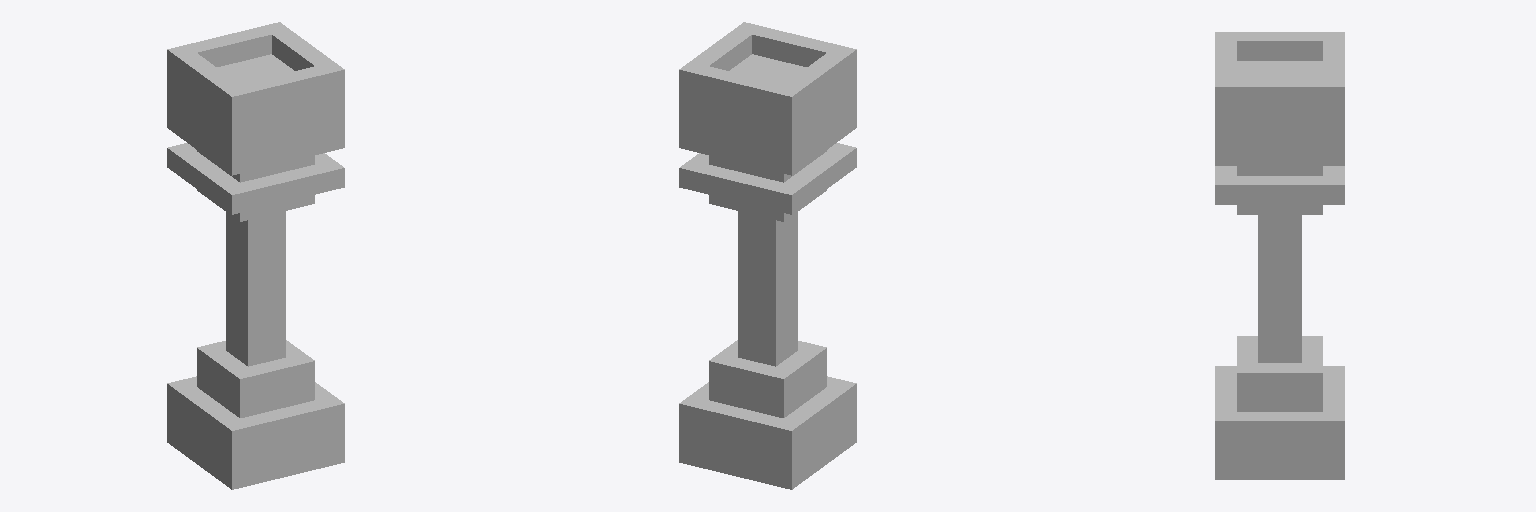
Rendered from Altar.obj.
3 views of the same model, side by side, from view 1: azimuth 30°, elevation 25°; view 2: azimuth 150°, elevation 25°; view 3: azimuth 270°, elevation 25° (orthographic).
Visible parts, largest first — view 1: cube; view 2: cube; view 3: cube.
Boxes of the visible parts, box(x1,y1,x2,y2) form: cube: box(167, 22, 344, 489); cube: box(679, 22, 856, 489); cube: box(1215, 32, 1344, 479).
Size of the model in its own units: 0.375 by 1.25 by 0.375.